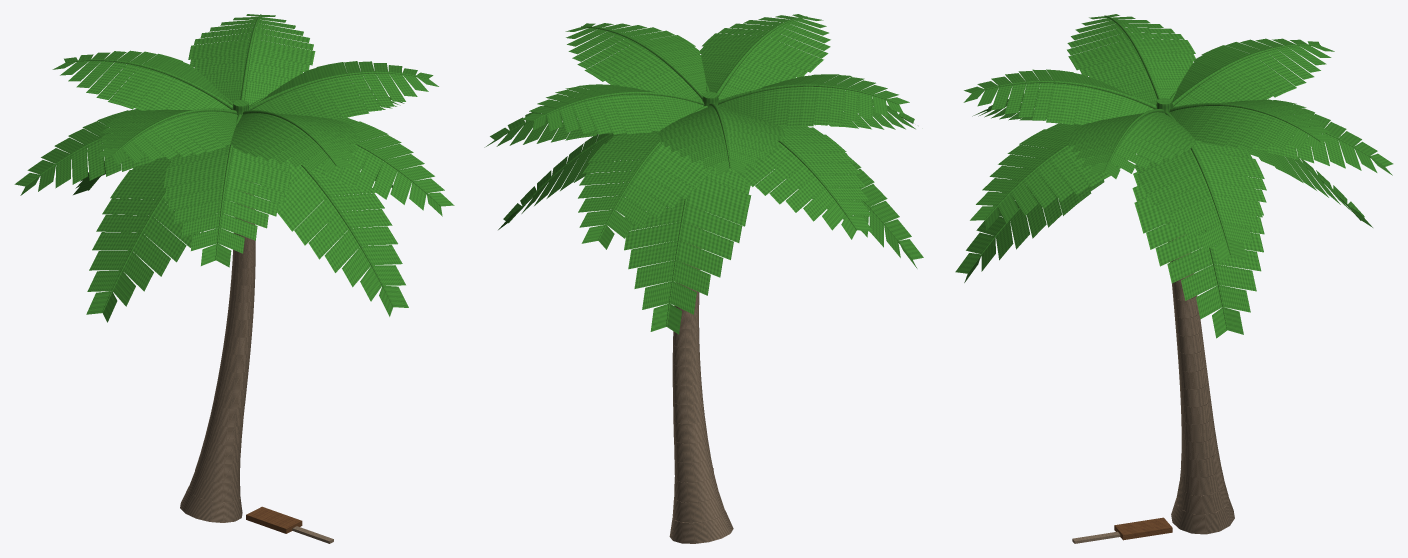
Rendered from pokok_kelapa.glb.
The picture shows the model from 3 angles, left to right: view 1: azimuth 30°, elevation 25°; view 2: azimuth 150°, elevation 25°; view 3: azimuth 270°, elevation 25°; orthographic projection.
Parts seen in each view (by area): view 1: Pokok_Kelapa; view 2: Pokok_Kelapa; view 3: Pokok_Kelapa.
Boxes of the visible parts, <box> form: Pokok_Kelapa: <box>14,14,454,543</box>; Pokok_Kelapa: <box>484,14,923,543</box>; Pokok_Kelapa: <box>955,14,1393,543</box>.
Bounding box in the file's own units: 6.35 × 7.01 × 6.26.
Materials: 1 (1 with a texture image).
